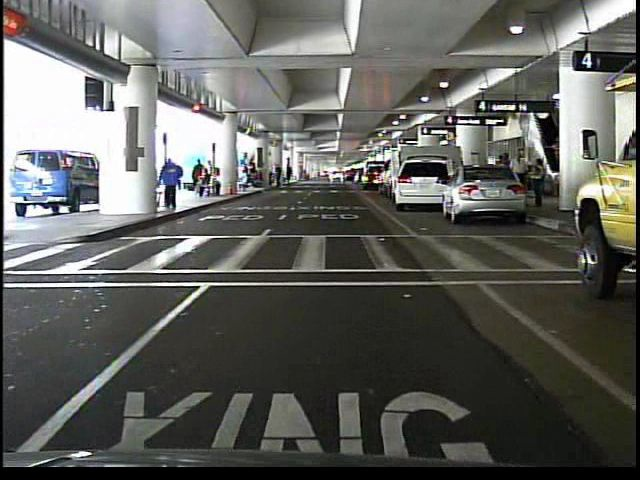person: (158, 153, 185, 210)
